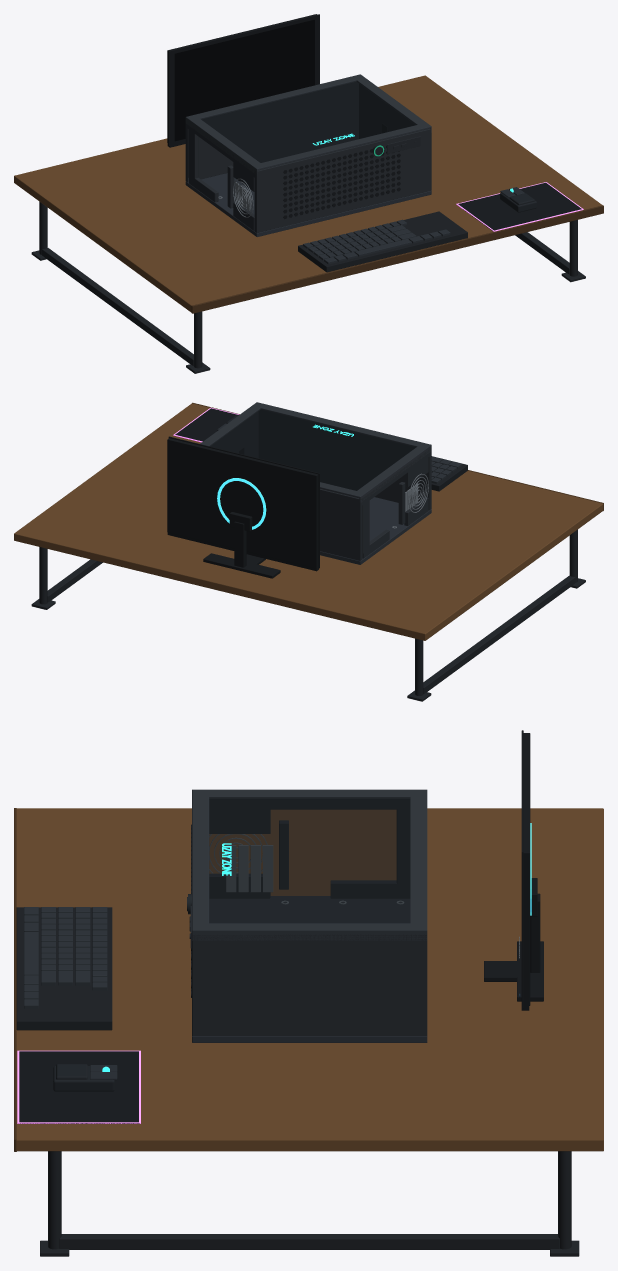
The model's file is sahne.glb.
The picture shows the model from 3 angles, top to bottom: view 1: azimuth 30°, elevation 25°; view 2: azimuth 150°, elevation 25°; view 3: azimuth 270°, elevation 25°; orthographic projection. The views are drawn at different scales.
Visible parts, largest first — view 1: masa_ust, kasa_yan, EKRAN, kapak_cam, kasa_on, masa_bacak, kapak_cerceve, masa_kenar, kasa_mesh, kl_tus, kasa_arka, masa_pad (+4 smaller); view 2: masa_ust, mon_cerceve, kapak_cam, kasa_on, masa_bacak, kasa_yan, kapak_cerceve, kasa_arka, mon_ayak, kasa_taban, masa_pad, kl_tus (+2 smaller); view 3: masa_ust, kapak_cam, kasa_yan, masa_bacak, kapak_cerceve, kasa_arka, masa_pad, kasa_taban, kl_tus, kl_gov, mon_cerceve, mon_ayak (+5 smaller).
Part boxes in pixels (x1,y1,x2,y2): masa_ust: [14, 75, 602, 312]; kasa_yan: [188, 82, 431, 191]; EKRAN: [174, 19, 314, 141]; kapak_cam: [201, 81, 415, 162]; kasa_on: [257, 128, 431, 232]; masa_bacak: [31, 201, 585, 373]; kapak_cerceve: [185, 74, 431, 174]; masa_kenar: [191, 205, 603, 313]; kasa_mesh: [283, 145, 400, 219]; kl_tus: [303, 219, 450, 264]; kasa_arka: [185, 123, 260, 232]; masa_pad: [458, 182, 581, 231]; masa_ust: [14, 403, 603, 640]; mon_cerceve: [167, 436, 319, 571]; kapak_cam: [210, 409, 415, 490]; kasa_on: [258, 410, 429, 510]; masa_bacak: [31, 529, 585, 701]; kasa_yan: [211, 411, 360, 560]; kapak_cerceve: [200, 402, 431, 502]; kasa_arka: [357, 448, 431, 560]; mon_ayak: [203, 512, 280, 578]; kasa_taban: [320, 497, 431, 564]; masa_pad: [175, 408, 238, 441]; kl_tus: [431, 456, 461, 483]; masa_ust: [16, 808, 603, 1151]; kapak_cam: [209, 798, 410, 923]; kasa_yan: [192, 934, 427, 1036]; masa_bacak: [40, 1151, 579, 1256]; kapak_cerceve: [192, 789, 427, 940]; kasa_arka: [209, 799, 410, 898]; masa_pad: [18, 1051, 139, 1123]; kasa_taban: [192, 896, 427, 1042]; kl_tus: [24, 907, 107, 1008]; kl_gov: [16, 907, 112, 1030]; mon_cerceve: [521, 730, 530, 1010]; mon_ayak: [484, 878, 543, 1001].
Bounding box in the file's own units: 32 × 13.86 × 24.06.
